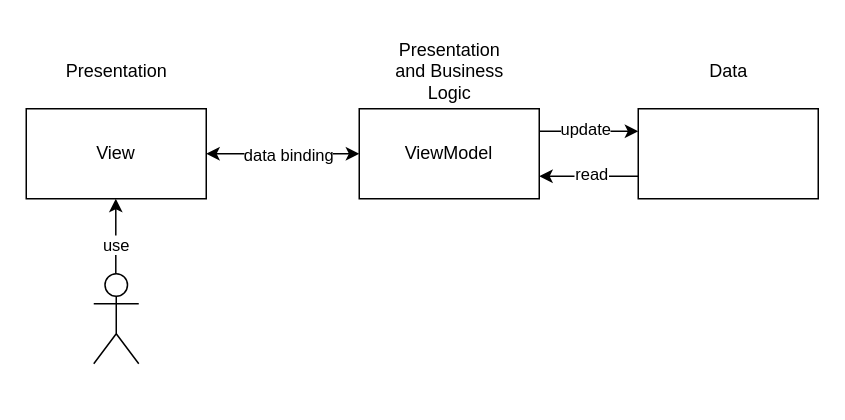
Image size: 845x420. Some labels were removed from this diagram. Here are the shapes that lost their labels. From the top down, the centre of each, then its label:
At point (727, 153): "Model".
At point (115, 318): "User".
